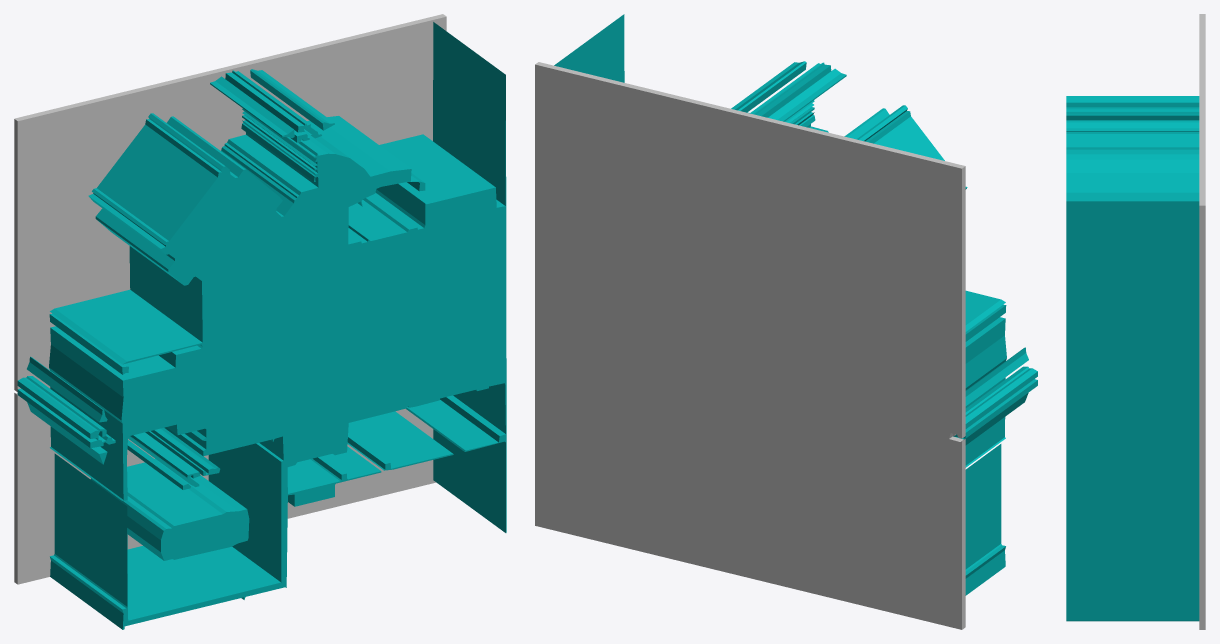
The picture shows the model from 3 angles, left to right: view 1: azimuth 30°, elevation 25°; view 2: azimuth 150°, elevation 25°; view 3: azimuth 270°, elevation 25°; orthographic projection. The views are drawn at different scales.
Visible parts, largest first — view 1: world; view 2: world; view 3: world.
Part boxes in pixels (x1,y1,x2,y2): world: (14,14,506,629); world: (535,14,1037,629); world: (1066,14,1205,629).
Size of the model in its own units: 10.23 by 10.56 by 3.15.
